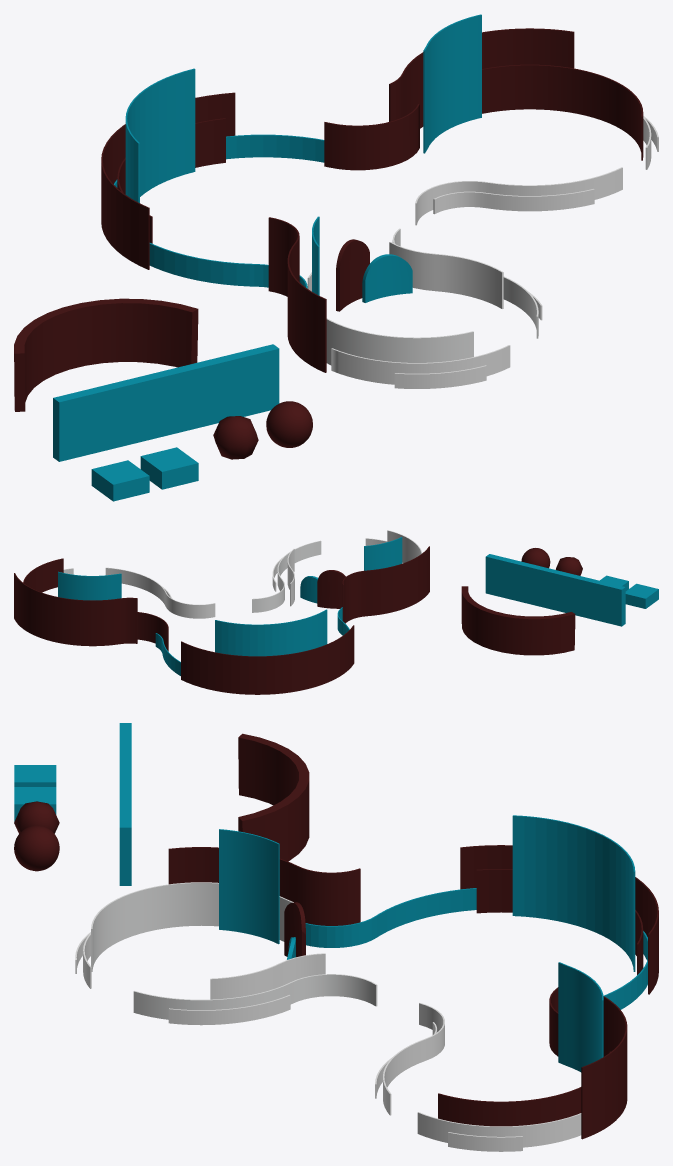
The model's file is meeting2.fbx.
3 renders of one model, top to bottom at view 1: azimuth 30°, elevation 25°; view 2: azimuth 150°, elevation 25°; view 3: azimuth 270°, elevation 25°, orthographic. The views are drawn at different scales.
Visible parts, largest first — view 1: Group7, Group6, Group13, Box003, Box004, Group14, Group9, Group16, Group5, Difference, Difference1, Box002 (+6 smaller); view 2: Group13, Group7, Box003, Box004, Group6, Group16, Group4, Difference1, Box001, Group14, Difference, Sphere002 (+1 smaller); view 3: Group7, Group13, Group6, Box004, Group14, Group4, Group5, Group8, Group16, Box003, Group15, Sphere002 (+4 smaller).
Part boxes in pixels (x1,y1,x2,y2): Group7: [125, 14, 503, 308]; Group6: [307, 64, 643, 365]; Group13: [101, 28, 574, 372]; Box003: [53, 344, 279, 461]; Box004: [14, 298, 198, 411]; Group14: [114, 134, 324, 288]; Group9: [331, 345, 510, 384]; Group16: [415, 167, 622, 225]; Group5: [433, 116, 658, 320]; Difference: [362, 254, 412, 302]; Difference1: [336, 239, 369, 311]; Box002: [140, 447, 198, 489]; Group13: [14, 546, 429, 694]; Group7: [58, 537, 402, 656]; Box003: [485, 554, 625, 626]; Box004: [461, 586, 575, 655]; Group6: [23, 530, 422, 651]; Group16: [105, 567, 215, 618]; Group4: [252, 540, 321, 612]; Difference1: [317, 570, 345, 608]; Box001: [625, 583, 658, 608]; Group14: [155, 607, 349, 675]; Difference: [300, 576, 318, 603]; Sphere002: [521, 548, 550, 568]; Group7: [210, 815, 635, 1072]; Group13: [168, 845, 658, 1139]; Group6: [91, 882, 610, 1126]; Box004: [238, 733, 309, 861]; Group14: [305, 888, 647, 1009]; Group4: [133, 974, 377, 1019]; Group5: [168, 995, 522, 1151]; Group8: [417, 1112, 581, 1147]; Group16: [383, 1003, 444, 1115]; Box003: [119, 723, 131, 885]; Group15: [476, 869, 643, 974]; Sphere002: [14, 825, 59, 871].
Size of the model in its own units: 804 by 102 by 592.
